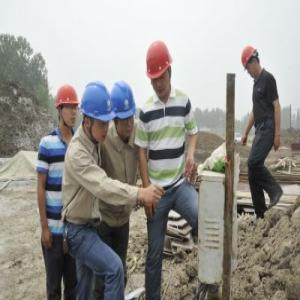blue: (82, 80, 112, 143), (112, 82, 137, 136)
red: (145, 39, 174, 99), (57, 86, 81, 130), (240, 44, 260, 84)
